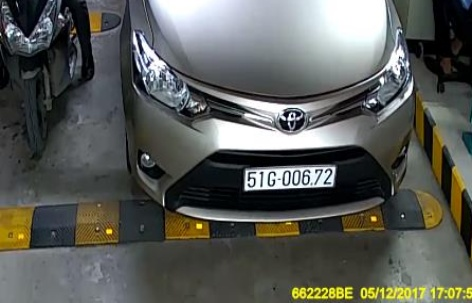plate: (239, 161, 340, 194)
